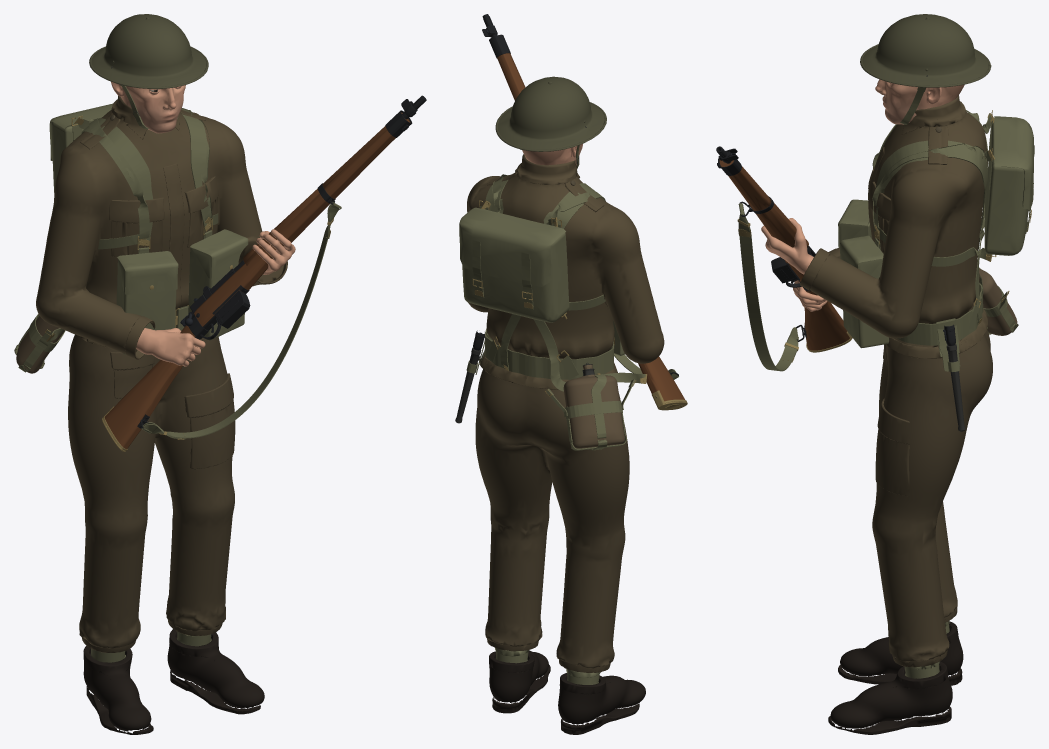
The model's file is rifleman.glb.
The picture shows the model from 3 angles, left to right: view 1: azimuth 30°, elevation 25°; view 2: azimuth 150°, elevation 25°; view 3: azimuth 270°, elevation 25°; orthographic projection. The views are drawn at different scales.
Visible parts, largest first — view 1: trousers, tunic, no4-parts, shell, lid (×2), pocket-map-l, boot-l, pouch (×2), brace (×2), boot-r, no4-sling, pocket-chest-r (+14 smaller); view 2: trousers, tunic, shell, flap, haversack, felt, no4-parts, boot-r, brace (×2), belt, carrier, boot-l (+13 smaller); view 3: trousers, tunic, shell, no4-parts, boot-l, haversack, pocket-map-l, no4-sling, flap, boot-r, head, brace (+14 smaller).
Boxes of the visible parts, left/top/right/bottom form: trousers: left=68, top=315, right=234, bottom=648; tunic: left=36, top=110, right=284, bottom=354; no4-parts: left=102, top=95, right=426, bottom=451; shell: left=91, top=14, right=206, bottom=86; lid (×2): left=117, top=229, right=248, bottom=294; pocket-map-l: left=184, top=373, right=235, bottom=469; boot-l: left=167, top=637, right=264, bottom=708; pouch (×2): left=116, top=247, right=244, bottom=354; brace (×2): left=48, top=113, right=207, bottom=341; boot-r: left=83, top=653, right=151, bottom=731; no4-sling: left=141, top=202, right=341, bottom=439; pocket-chest-r: left=109, top=197, right=164, bottom=257; trousers: left=475, top=369, right=629, bottom=668; tunic: left=467, top=174, right=664, bottom=363; shell: left=497, top=76, right=604, bottom=149; flap: left=459, top=207, right=565, bottom=286; haversack: left=462, top=233, right=569, bottom=322; felt: left=563, top=374, right=624, bottom=448; no4-parts: left=482, top=14, right=687, bottom=410; boot-r: left=558, top=675, right=645, bottom=724; brace (×2): left=485, top=179, right=645, bottom=391; belt: left=485, top=328, right=614, bottom=379; carrier: left=546, top=374, right=635, bottom=450; boot-l: left=489, top=650, right=548, bottom=702; trousers: left=872, top=304, right=992, bottom=662; tunic: left=810, top=112, right=987, bottom=347; shell: left=862, top=14, right=988, bottom=85; no4-parts: left=716, top=146, right=852, bottom=352; boot-l: left=830, top=671, right=952, bottom=728; haversack: left=984, top=122, right=1028, bottom=255; pocket-map-l: left=875, top=398, right=909, bottom=496; no4-sling: left=737, top=203, right=798, bottom=371; flap: left=994, top=116, right=1033, bottom=210; boot-r: left=840, top=630, right=963, bottom=676; head: left=875, top=79, right=964, bottom=124; brace: left=872, top=140, right=987, bottom=299.
Bounding box in the file's own units: 0.8072 × 1.81 × 0.7663.
